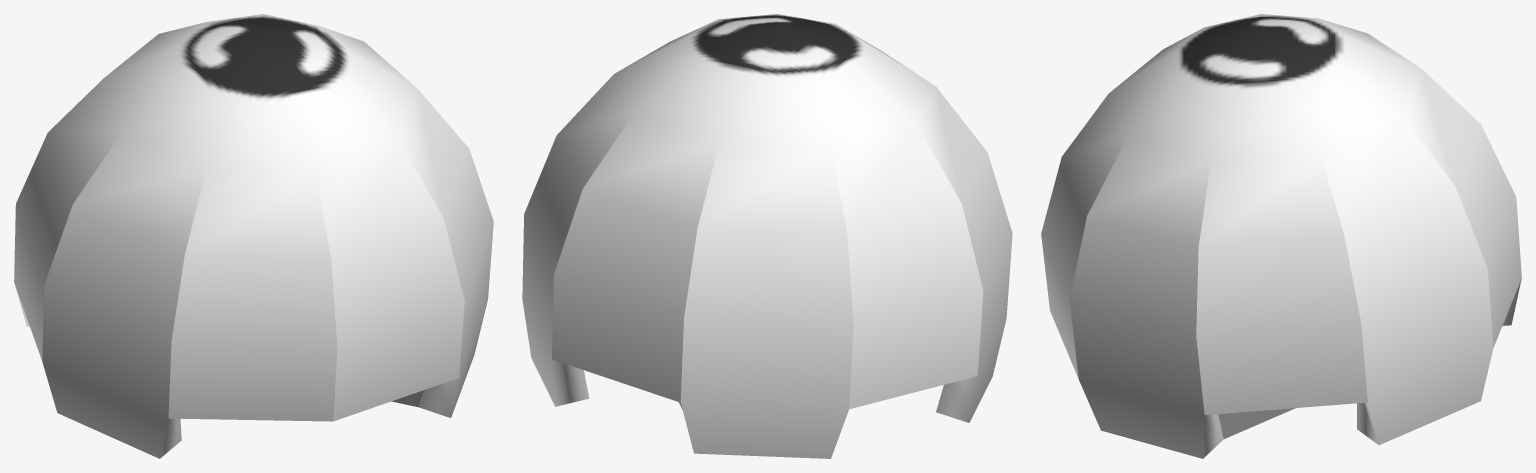
Rendered from gnome_lvl1_shatter_EYE.fbx.
3 renders of one model, left to right at view 1: azimuth 30°, elevation 25°; view 2: azimuth 150°, elevation 25°; view 3: azimuth 270°, elevation 25°, orthographic. The views are drawn at different scales.
Visible parts, largest first — view 1: polySurface7; view 2: polySurface7; view 3: polySurface7.
Part boxes in pixels (x1,y1,x2,y2): polySurface7: (14,14,493,458); polySurface7: (522,14,1012,458); polySurface7: (1041,14,1521,458).
Bounding box in the file's own units: 1.89 × 1.52 × 1.94.
